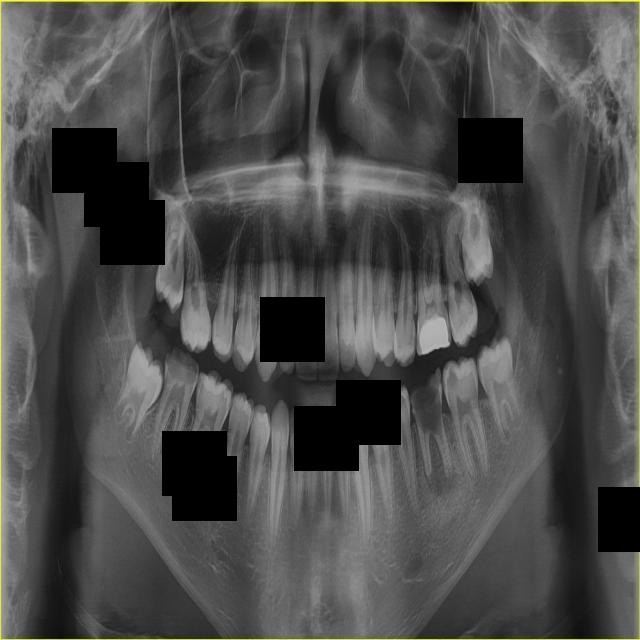NucleOSS Implant: (415, 312, 450, 356)
Sterngold Implant: (409, 370, 443, 436), (162, 348, 201, 388), (440, 363, 460, 394), (395, 392, 408, 415), (195, 375, 206, 392), (410, 330, 415, 349)
